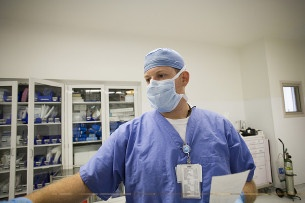Mask: (143, 70, 184, 111)
